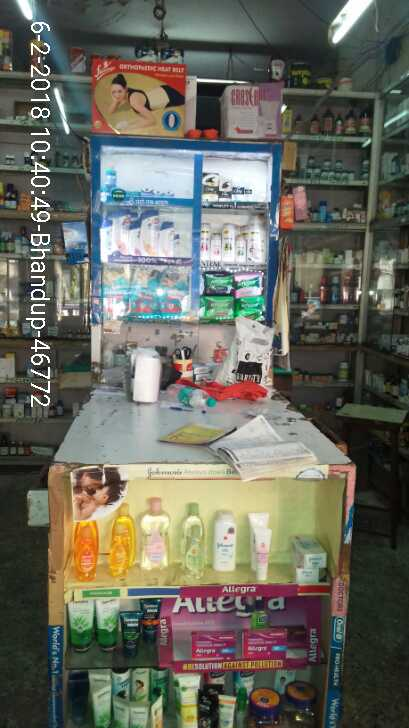beauty: (243, 222, 266, 266), (122, 219, 147, 258), (142, 204, 158, 257), (219, 219, 237, 264), (159, 218, 179, 257), (198, 168, 218, 201), (196, 227, 214, 260), (217, 179, 234, 199)
pharmacy: (119, 264, 163, 317), (100, 266, 132, 319), (161, 266, 188, 312), (203, 268, 235, 296), (230, 269, 264, 291), (209, 291, 234, 319), (101, 165, 120, 200), (236, 294, 260, 316)
